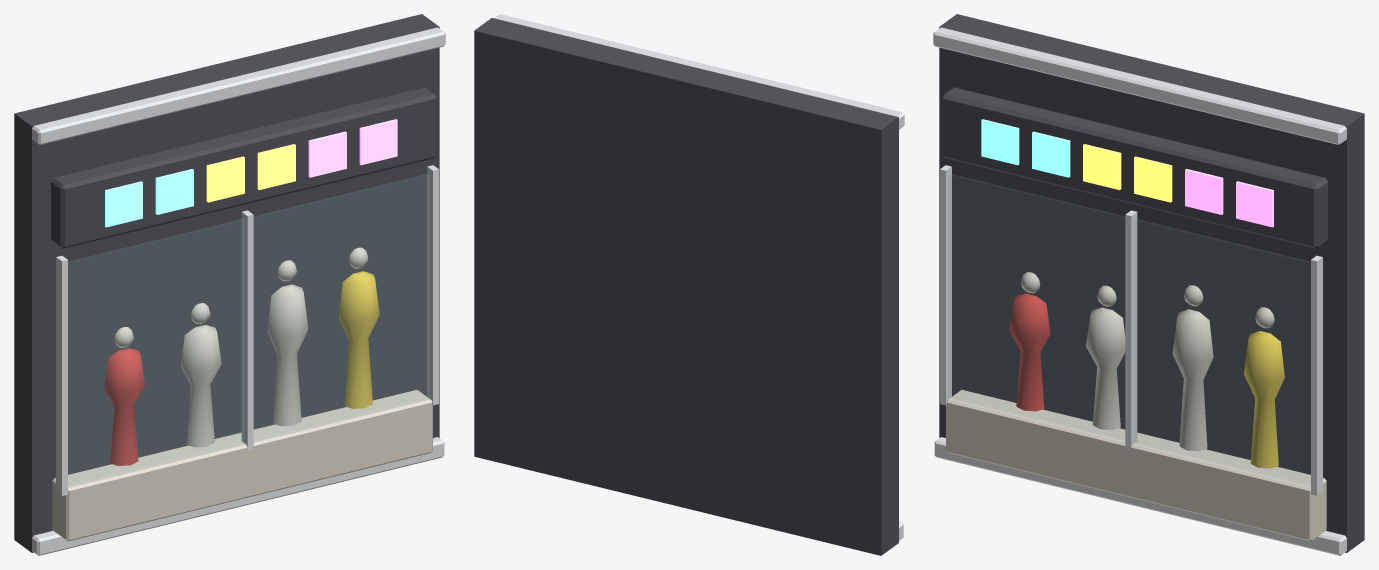
File: wall_mp_store.glb
3 views of the same model, side by side, from view 1: azimuth 30°, elevation 25°; view 2: azimuth 150°, elevation 25°; view 3: azimuth 330°, elevation 25° (orthographic).
Visible parts, largest first — view 1: wall_mp_store; view 2: wall_mp_store; view 3: wall_mp_store.
Boxes of the visible parts, x1,y1,x2,y2 form: wall_mp_store: [14, 14, 445, 555]; wall_mp_store: [474, 14, 904, 555]; wall_mp_store: [933, 14, 1364, 555].
Bounding box in the file's own units: 4 × 4 × 0.575.
